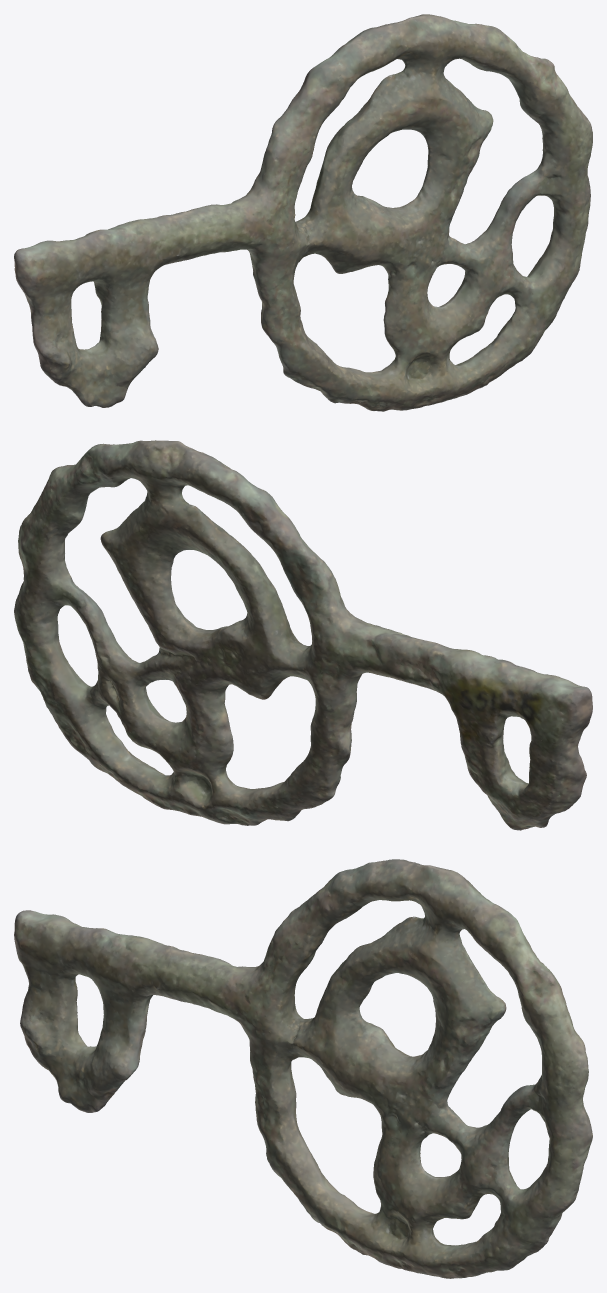
File: key_in_bronze_viking_age.glb
3 renders of one model, top to bottom at view 1: azimuth 30°, elevation 25°; view 2: azimuth 150°, elevation 25°; view 3: azimuth 330°, elevation 25°, orthographic. The views are drawn at different scales.
Parts seen in each view (by area): view 1: Object_2, Object_3; view 2: Object_2, Object_3; view 3: Object_2, Object_3.
Part boxes in pixels (x1,y1,x2,y2): Object_2: (16,14,592,411); Object_3: (14,16,592,411); Object_2: (18,440,583,825); Object_3: (14,440,592,830); Object_2: (35,859,588,1278); Object_3: (14,859,592,1269).
Size of the model in its own units: 1.95 by 1.24 by 0.2345.
